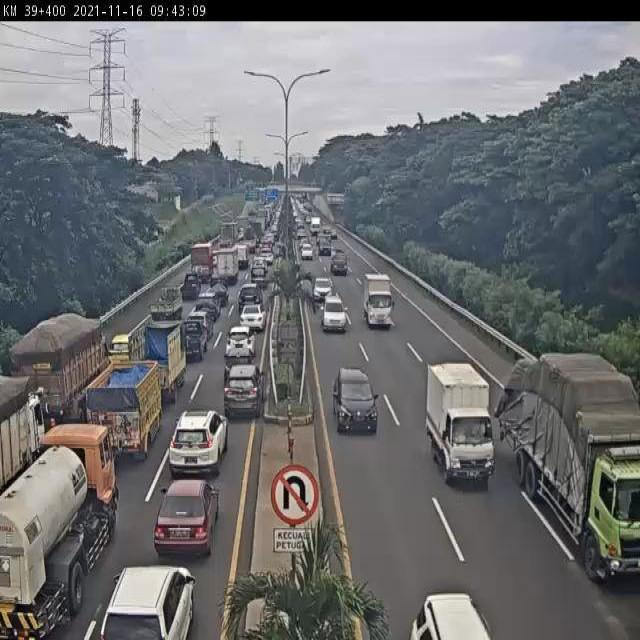car: (98, 565, 194, 640), (156, 478, 220, 558), (171, 409, 229, 476), (413, 594, 493, 640), (333, 366, 378, 434), (225, 365, 266, 420), (226, 327, 257, 362), (322, 296, 346, 333), (240, 305, 267, 331), (196, 292, 222, 317), (239, 284, 263, 309), (111, 334, 132, 362), (209, 276, 229, 304), (190, 312, 213, 336), (182, 273, 201, 299), (312, 278, 332, 302), (250, 267, 267, 288), (254, 257, 268, 272), (260, 248, 273, 263), (301, 244, 313, 260)
small truck: (427, 362, 496, 489), (363, 272, 394, 328), (182, 319, 208, 361), (217, 249, 239, 283), (331, 249, 349, 275), (233, 244, 249, 268), (319, 234, 332, 254)
truck-l-: (501, 354, 640, 586), (12, 315, 110, 424), (0, 378, 45, 498)
truck-m-: (0, 421, 117, 640), (88, 359, 163, 461), (128, 320, 187, 400), (192, 243, 214, 280), (220, 221, 238, 247)
truck-s-: (152, 287, 182, 320)
